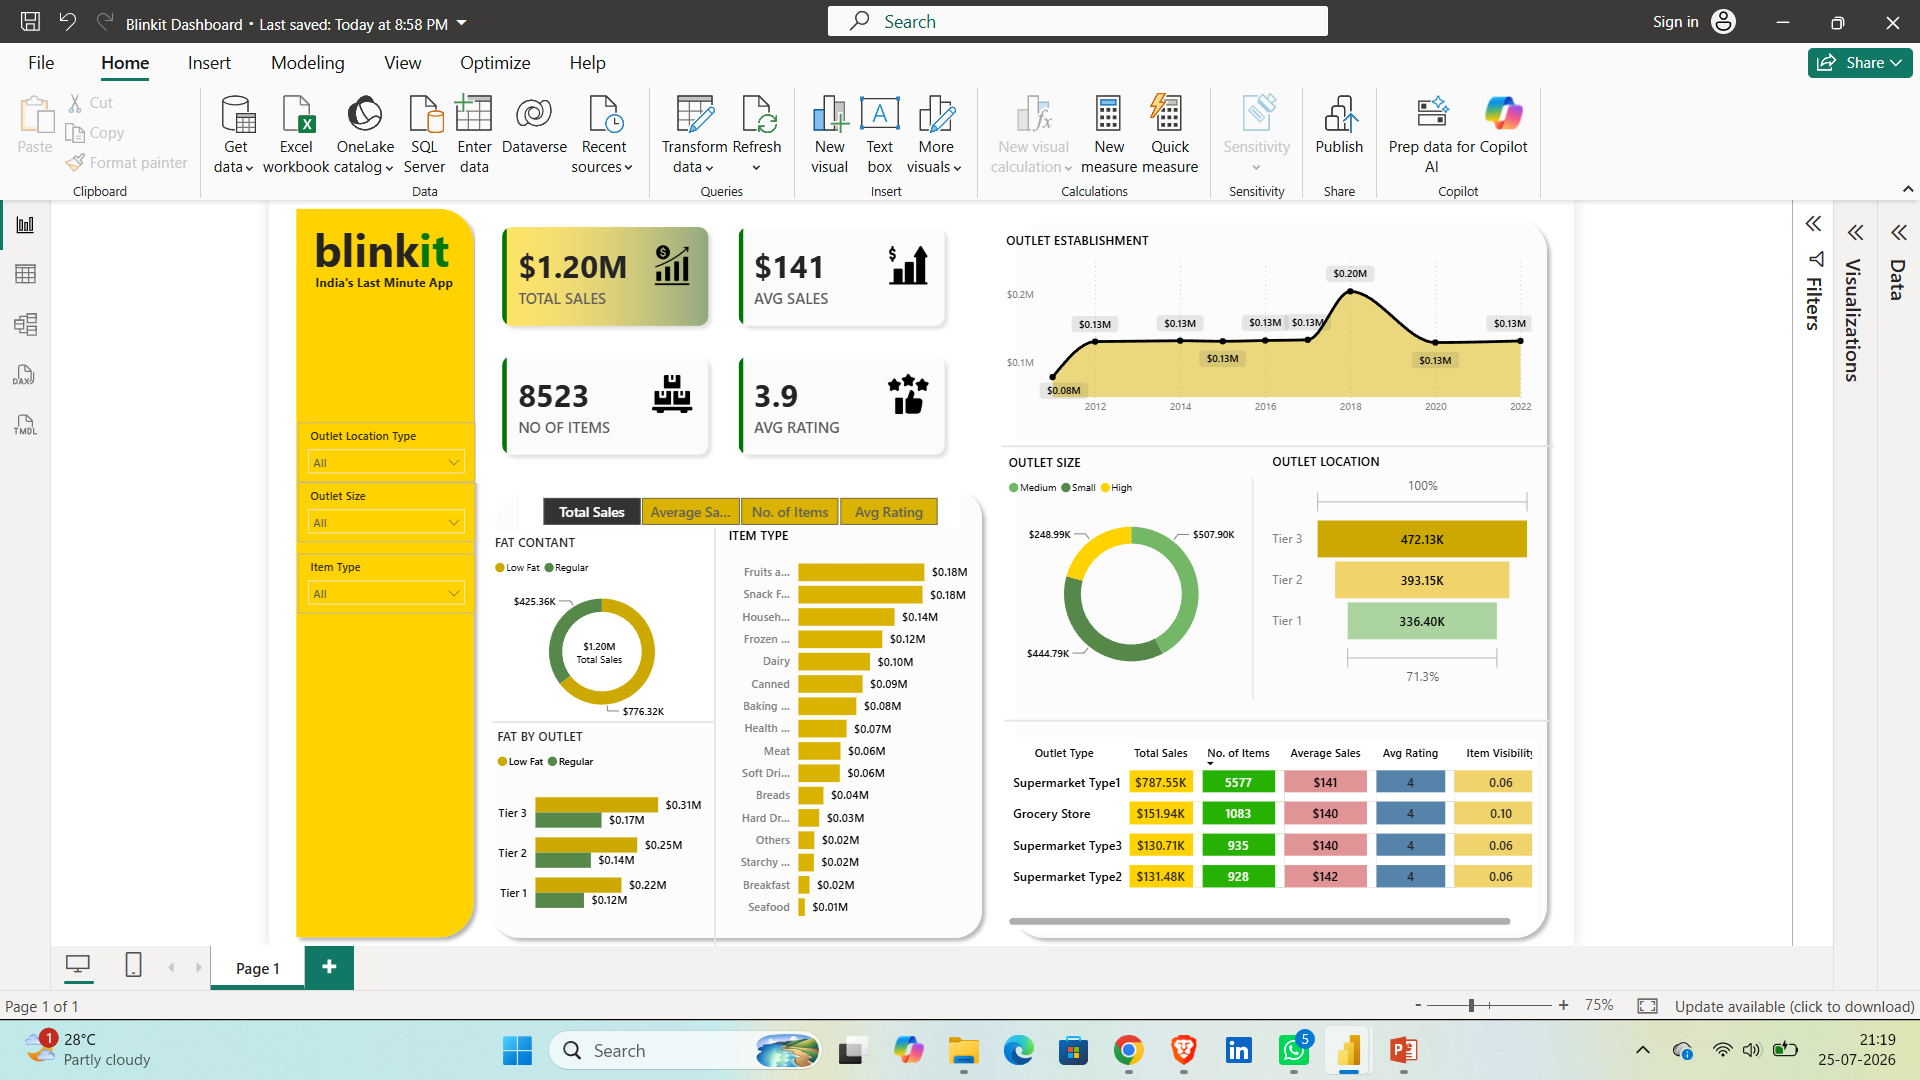

Layout of this report page (visuals, bound fields, positions):
{"tool":"powerbi","page":{"name":"Page 1","canvas":[1400,800],"ordinal":0},"visuals":[{"type":"shape","box":[20,0,208.6,800],"z":0},{"type":"textbox","box":[40,15.7,261.4,68.6],"z":1000},{"type":"textbox","box":[40,74.3,167.1,44.3],"z":2000},{"type":"cardVisual","fields":{"Data":["BlinkIT Grocery Data.Total Sales","BlinkIT Grocery Data.Average Sales","BlinkIT Grocery Data.No. of Items","BlinkIT Grocery Data.Avg Rating"]},"box":[221.2,0,533.5,303],"z":3000},{"type":"shape","box":[230,302.9,542.9,497.1],"z":4000},{"type":"donutChart","title":"FAT CONTANT","fields":{"Y":["BlinkIT Grocery Data.Total Sales"],"Category":["BlinkIT Grocery Data.Item Fat Content"]},"box":[237.3,357.9,239.9,207.8],"z":5000},{"type":"slicer","fields":{"Values":["Metrics.Metrics"]},"box":[268.6,312.9,472.9,40],"z":6000},{"type":"cardVisual","fields":{"Data":["BlinkIT Grocery Data.Total Sales"]},"box":[300.3,453.1,108.6,64.3],"z":7000},{"type":"clusteredBarChart","title":"FAT BY OUTLET","fields":{"Y":["BlinkIT Grocery Data.Total Sales"],"Category":["BlinkIT Grocery Data.Outlet Location Type"],"Series":["BlinkIT Grocery Data.Item Fat Content"]},"box":[239.9,565.7,229.2,217.2],"z":8000},{"type":"shape","box":[240,534.3,237.1,50],"z":9000},{"type":"shape","box":[450,352.9,55.7,447.1],"z":10000},{"type":"barChart","title":"ITEM TYPE","fields":{"Y":["BlinkIT Grocery Data.Total Sales"],"Category":["BlinkIT Grocery Data.Item Type"]},"box":[487.9,349.9,266.8,433],"z":11000},{"type":"shape","box":[788.2,12.1,591.2,788.2],"z":12000},{"type":"lineChart","title":"OUTLET ESTABLISHMENT ","fields":{"Category":["BlinkIT Grocery Data.Outlet Establishment Year"],"Y":["BlinkIT Grocery Data.Total Sales"]},"box":[785.5,33.5,573.7,205.1],"z":13000},{"type":"shape","box":[788.2,533.5,585.8,49.6],"z":14000},{"type":"donutChart","title":"OUTLET SIZE","fields":{"Y":["BlinkIT Grocery Data.Total Sales"],"Category":["BlinkIT Grocery Data.Outlet Size"]},"box":[788.2,272.1,273.5,256],"z":15000},{"type":"shape","box":[1026.8,298.9,56.3,235.9],"z":16000},{"type":"funnel","title":"OUTLET LOCATION","fields":{"Y":["Sum(BlinkIT Grocery Data.Sales)"],"Category":["BlinkIT Grocery Data.Outlet Location Type"]},"box":[1071.1,270.8,288.2,256],"z":17000},{"type":"shape","box":[785.5,238.6,592.5,50.9],"z":18000},{"type":"pivotTable","fields":{"Rows":["BlinkIT Grocery Data.Outlet Type"],"Values":["BlinkIT Grocery Data.Total Sales","BlinkIT Grocery Data.No. of Items","BlinkIT Grocery Data.Average Sales","BlinkIT Grocery Data.Avg Rating","Avg(BlinkIT Grocery Data.Item Visibility)"]},"box":[788.2,576.4,571,206.4],"z":19000},{"type":"slicer","fields":{"Values":["BlinkIT Grocery Data.Outlet Location Type"]},"box":[30.8,238.6,190.3,64.3],"z":19001},{"type":"slicer","fields":{"Values":["BlinkIT Grocery Data.Outlet Size"]},"box":[30.8,303,190.3,64.3],"z":19002},{"type":"slicer","fields":{"Values":["BlinkIT Grocery Data.Item Type"]},"box":[30.8,379.4,190.3,64.3],"z":19003}]}

Visuals, with their boxes on the page's 1400x800 design canvas (x1, y1, x2, y2). These are canvas units, not pixel positions in the 1920x1080 screenshot, which may show the page scaled, cropped or inside an application window:
shape: (x1=20, y1=0, x2=229, y2=800)
textbox: (x1=40, y1=16, x2=301, y2=84)
textbox: (x1=40, y1=74, x2=207, y2=119)
cardVisual - BlinkIT Grocery Data.Total Sales x BlinkIT Grocery Data.Average Sales: (x1=221, y1=0, x2=755, y2=303)
shape: (x1=230, y1=303, x2=773, y2=800)
"FAT CONTANT" donutChart: (x1=237, y1=358, x2=477, y2=566)
slicer - Metrics.Metrics: (x1=269, y1=313, x2=742, y2=353)
cardVisual - BlinkIT Grocery Data.Total Sales: (x1=300, y1=453, x2=409, y2=517)
"FAT BY OUTLET" clusteredBarChart: (x1=240, y1=566, x2=469, y2=783)
shape: (x1=240, y1=534, x2=477, y2=584)
shape: (x1=450, y1=353, x2=506, y2=800)
"ITEM TYPE" barChart: (x1=488, y1=350, x2=755, y2=783)
shape: (x1=788, y1=12, x2=1379, y2=800)
"OUTLET ESTABLISHMENT " lineChart: (x1=786, y1=34, x2=1359, y2=239)
shape: (x1=788, y1=534, x2=1374, y2=583)
"OUTLET SIZE" donutChart: (x1=788, y1=272, x2=1062, y2=528)
shape: (x1=1027, y1=299, x2=1083, y2=535)
"OUTLET LOCATION" funnel: (x1=1071, y1=271, x2=1359, y2=527)
shape: (x1=786, y1=239, x2=1378, y2=290)
pivotTable - BlinkIT Grocery Data.Outlet Type x BlinkIT Grocery Data.Total Sales: (x1=788, y1=576, x2=1359, y2=783)
slicer - BlinkIT Grocery Data.Outlet Location Type: (x1=31, y1=239, x2=221, y2=303)
slicer - BlinkIT Grocery Data.Outlet Size: (x1=31, y1=303, x2=221, y2=367)
slicer - BlinkIT Grocery Data.Item Type: (x1=31, y1=379, x2=221, y2=444)
